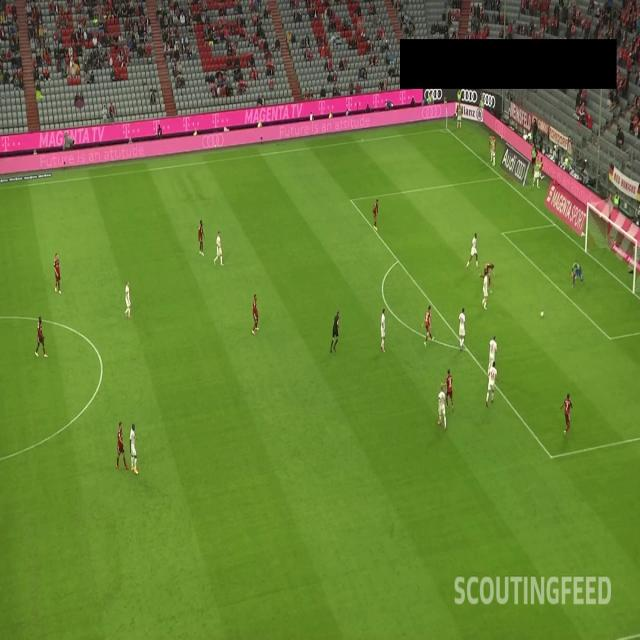ball: (539, 308, 546, 320)
player: (116, 419, 128, 468), (128, 422, 139, 473), (486, 360, 498, 406), (561, 389, 571, 440), (487, 333, 498, 379), (458, 305, 467, 352), (571, 257, 585, 287), (249, 292, 259, 334), (438, 384, 448, 425), (481, 273, 491, 313), (423, 302, 433, 342), (38, 314, 46, 361), (469, 231, 478, 270), (378, 307, 386, 350), (444, 368, 452, 411), (215, 229, 225, 262), (53, 252, 60, 298), (482, 261, 493, 289), (372, 197, 380, 232), (198, 216, 205, 256), (126, 280, 132, 320)
